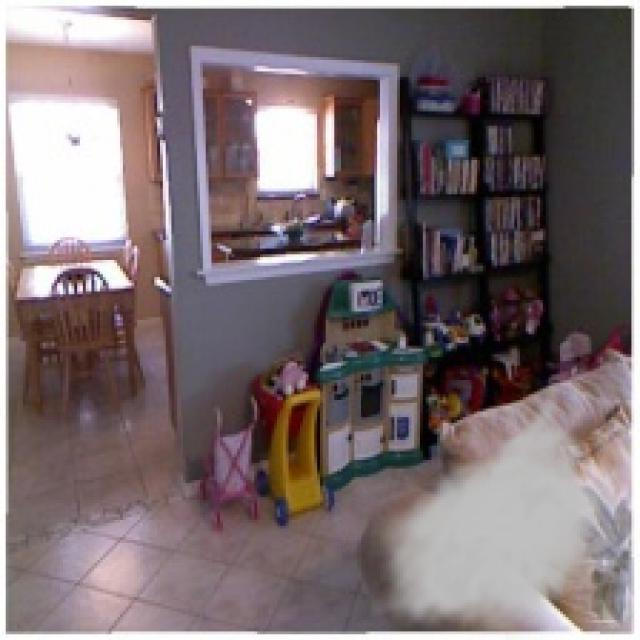Smoke: (368, 374, 614, 637)
